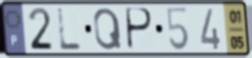2: (26, 6, 54, 53)
4: (199, 7, 223, 52)
5: (165, 5, 191, 53)
L: (56, 6, 85, 52)
P: (125, 6, 155, 53)
Q: (92, 6, 124, 52)
